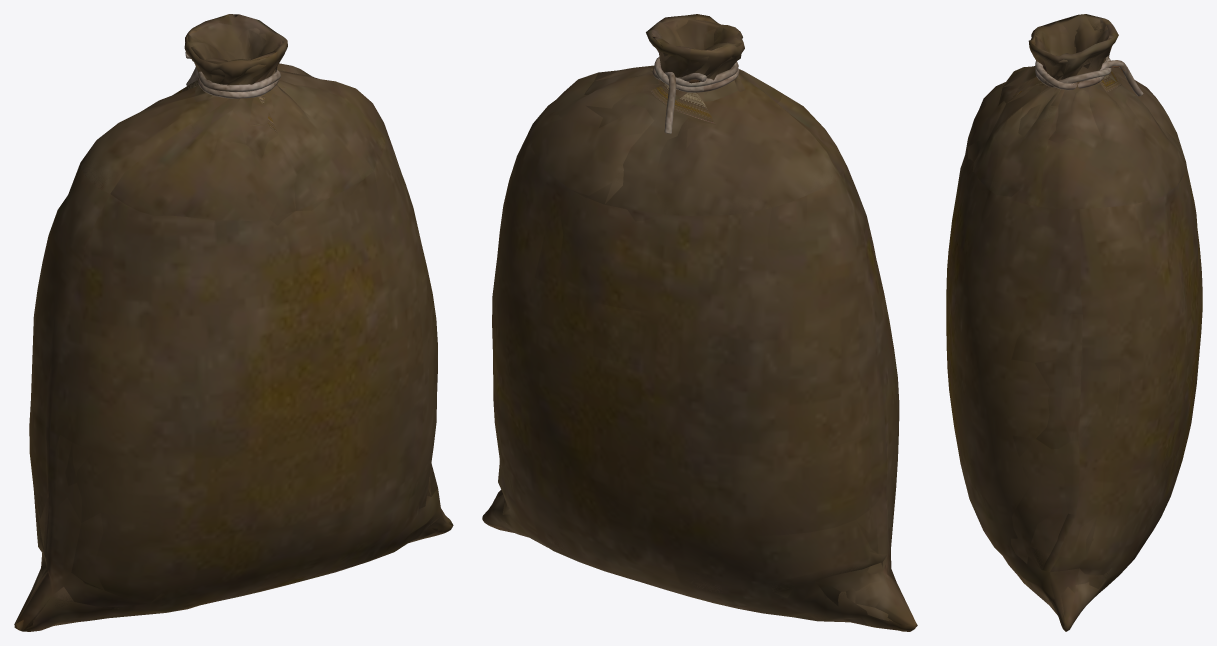
File: SackTiedA.glb
3 renders of one model, left to right at view 1: azimuth 30°, elevation 25°; view 2: azimuth 150°, elevation 25°; view 3: azimuth 270°, elevation 25°, orthographic. The views are drawn at different scales.
Parts seen in each view (by area): view 1: SackTiedA; view 2: SackTiedA; view 3: SackTiedA.
Part boxes in pixels (<box>): SackTiedA: <box>14,14,453,631</box>; SackTiedA: <box>482,14,917,631</box>; SackTiedA: <box>946,14,1202,631</box>.
Size of the model in its own units: 0.7136 by 0.8683 by 0.3925.
Materials: 2 (2 with a texture image).
